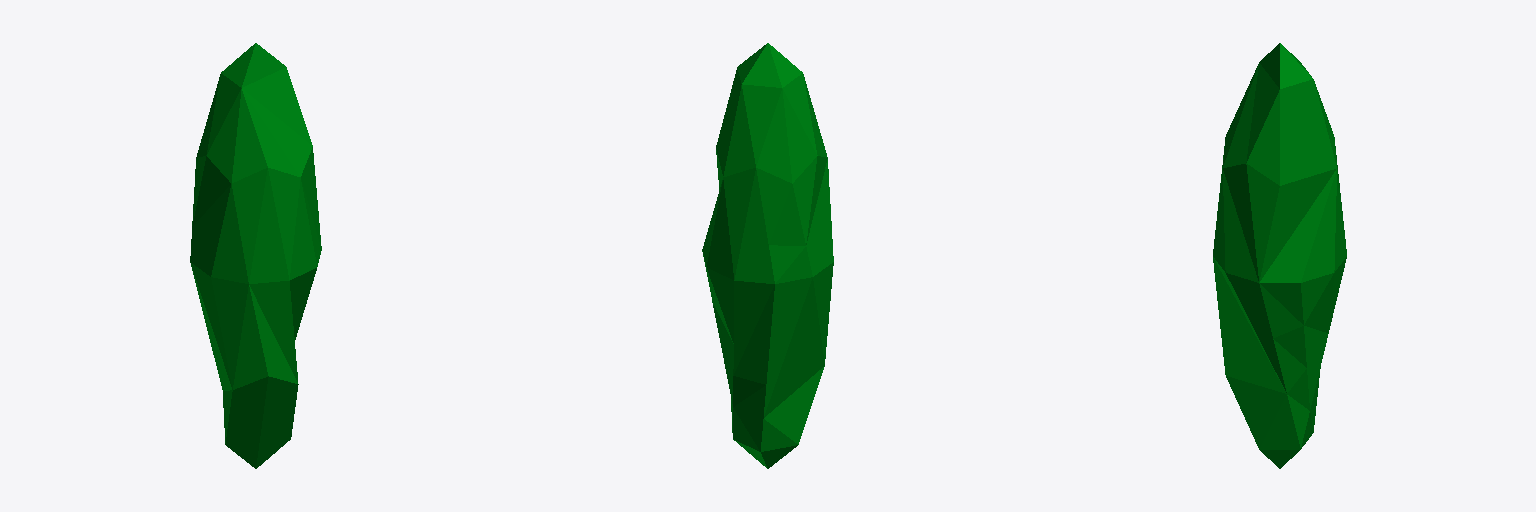
File: cropgrower.obj
3 renders of one model, left to right at view 1: azimuth 30°, elevation 25°; view 2: azimuth 150°, elevation 25°; view 3: azimuth 270°, elevation 25°, orthographic.
Parts seen in each view (by area): view 1: Icosphere; view 2: Icosphere; view 3: Icosphere.
Part boxes in pixels (left/top/right/bottom): Icosphere: left=190, top=43, right=321, bottom=468; Icosphere: left=702, top=43, right=833, bottom=468; Icosphere: left=1213, top=43, right=1346, bottom=468.
Size of the model in its own units: 0.1902 by 0.7 by 0.2.